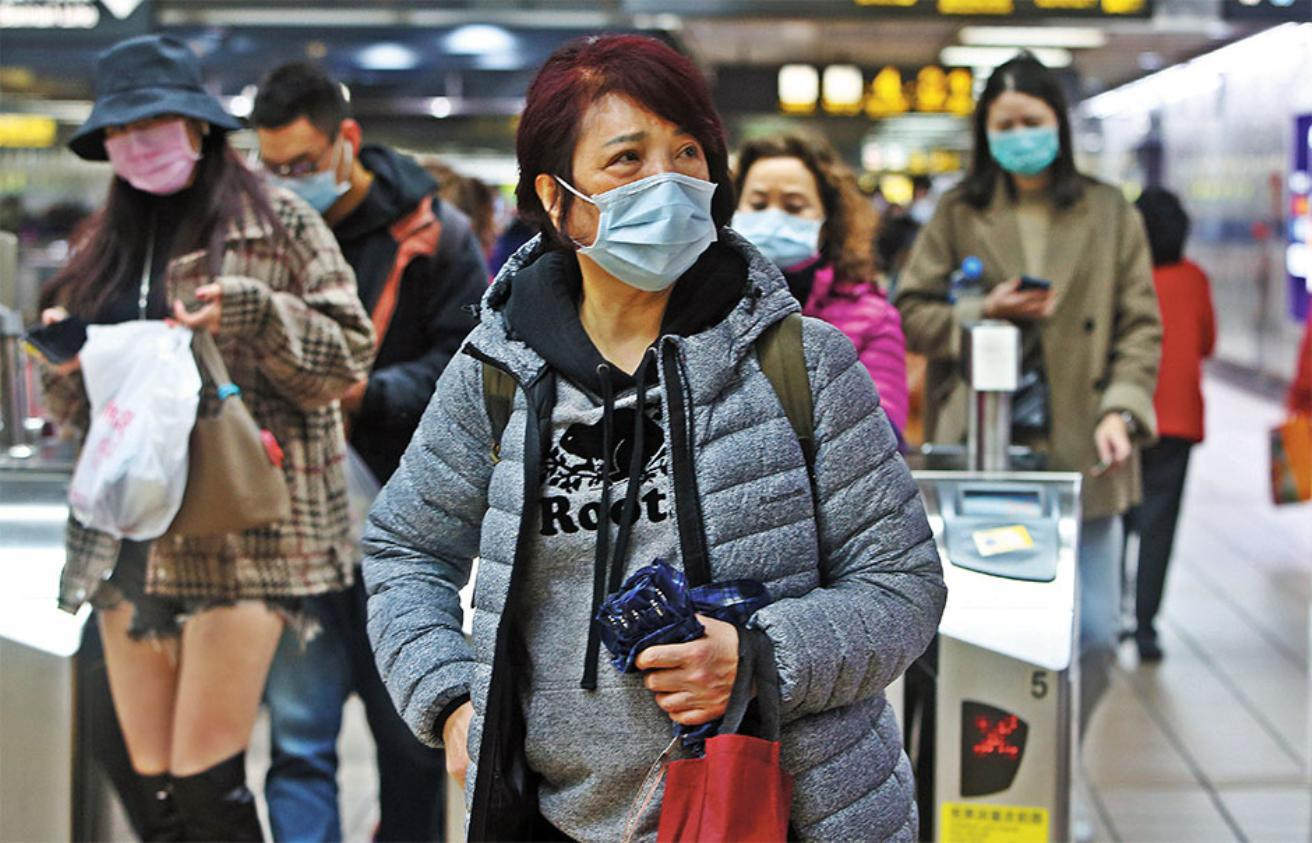mask: (575, 124, 726, 299), (101, 109, 205, 197), (728, 186, 824, 275), (250, 152, 350, 222), (984, 103, 1067, 184)
